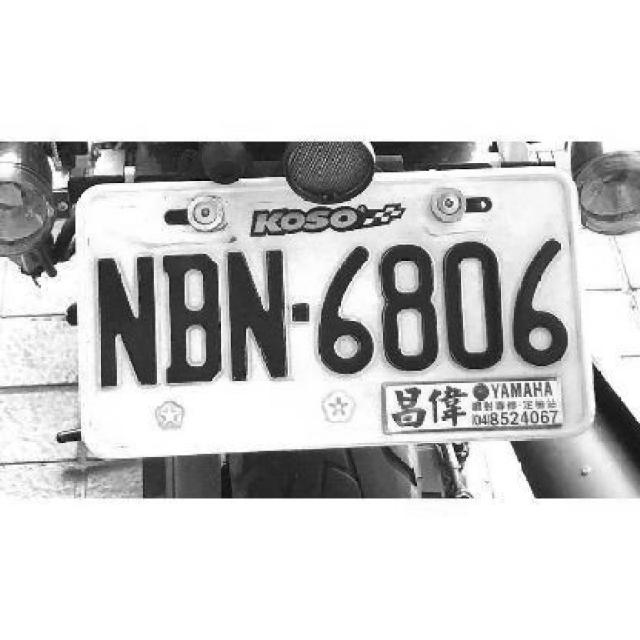-: (292, 300, 312, 322)
0: (442, 240, 508, 371)
6: (314, 240, 378, 375), (508, 232, 570, 368)
8: (376, 238, 442, 376)
B: (163, 251, 225, 383)
N: (91, 252, 158, 390), (225, 246, 289, 382)
